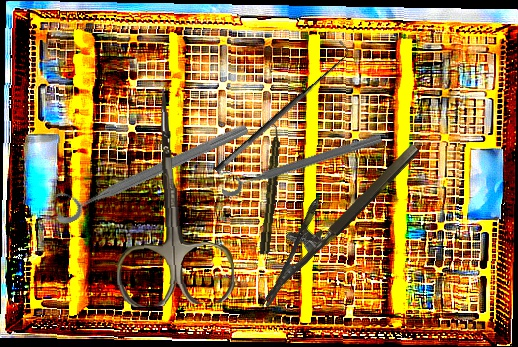Fixation Ring: (47, 108, 252, 227), (215, 120, 385, 200)
Handpiece: (258, 122, 284, 257)
Hook Surgical: (204, 39, 357, 175)
Iris Scissors: (107, 88, 236, 308)
Needle Holder: (237, 122, 422, 308)
